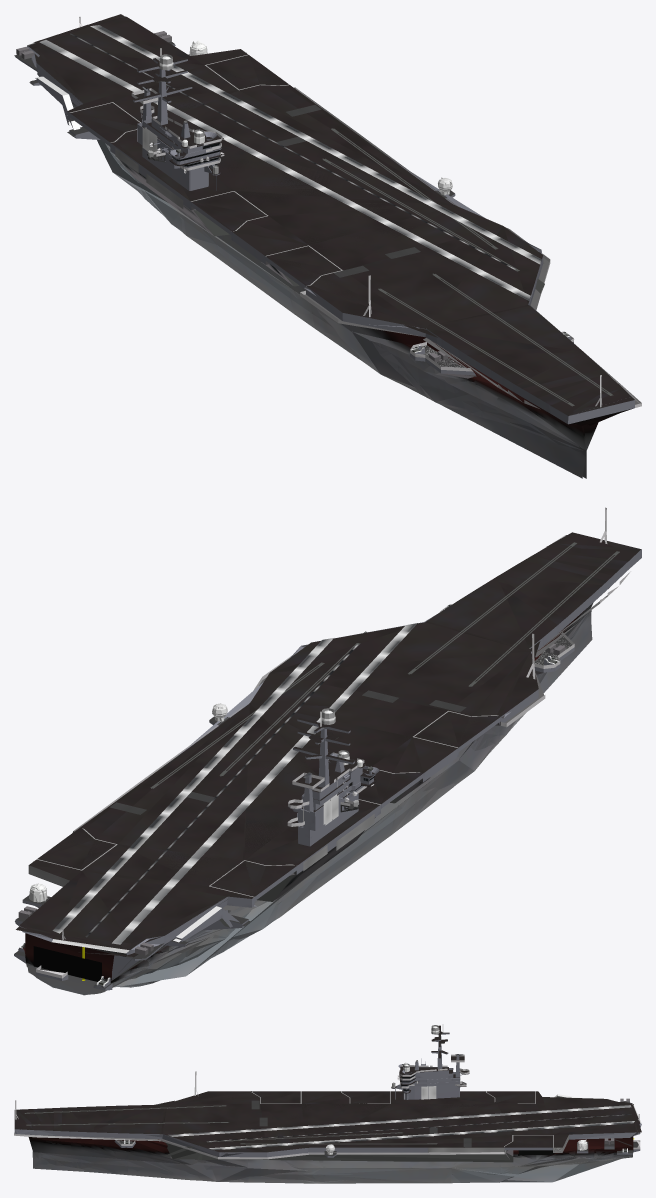
The model's file is CVN75.fbx.
The picture shows the model from 3 angles, top to bottom: view 1: azimuth 30°, elevation 25°; view 2: azimuth 150°, elevation 25°; view 3: azimuth 270°, elevation 25°; orthographic projection. The views are drawn at different scales.
Parts seen in each view (by area): view 1: CVN75; view 2: CVN75; view 3: CVN75.
Part boxes in pixels (x1,y1,x2,y2): CVN75: (14, 14, 641, 478); CVN75: (14, 507, 641, 995); CVN75: (14, 1024, 641, 1183).
Bounding box in the file's own units: 86.07 × 71.29 × 338.
Materials: 1 (1 with a texture image).
